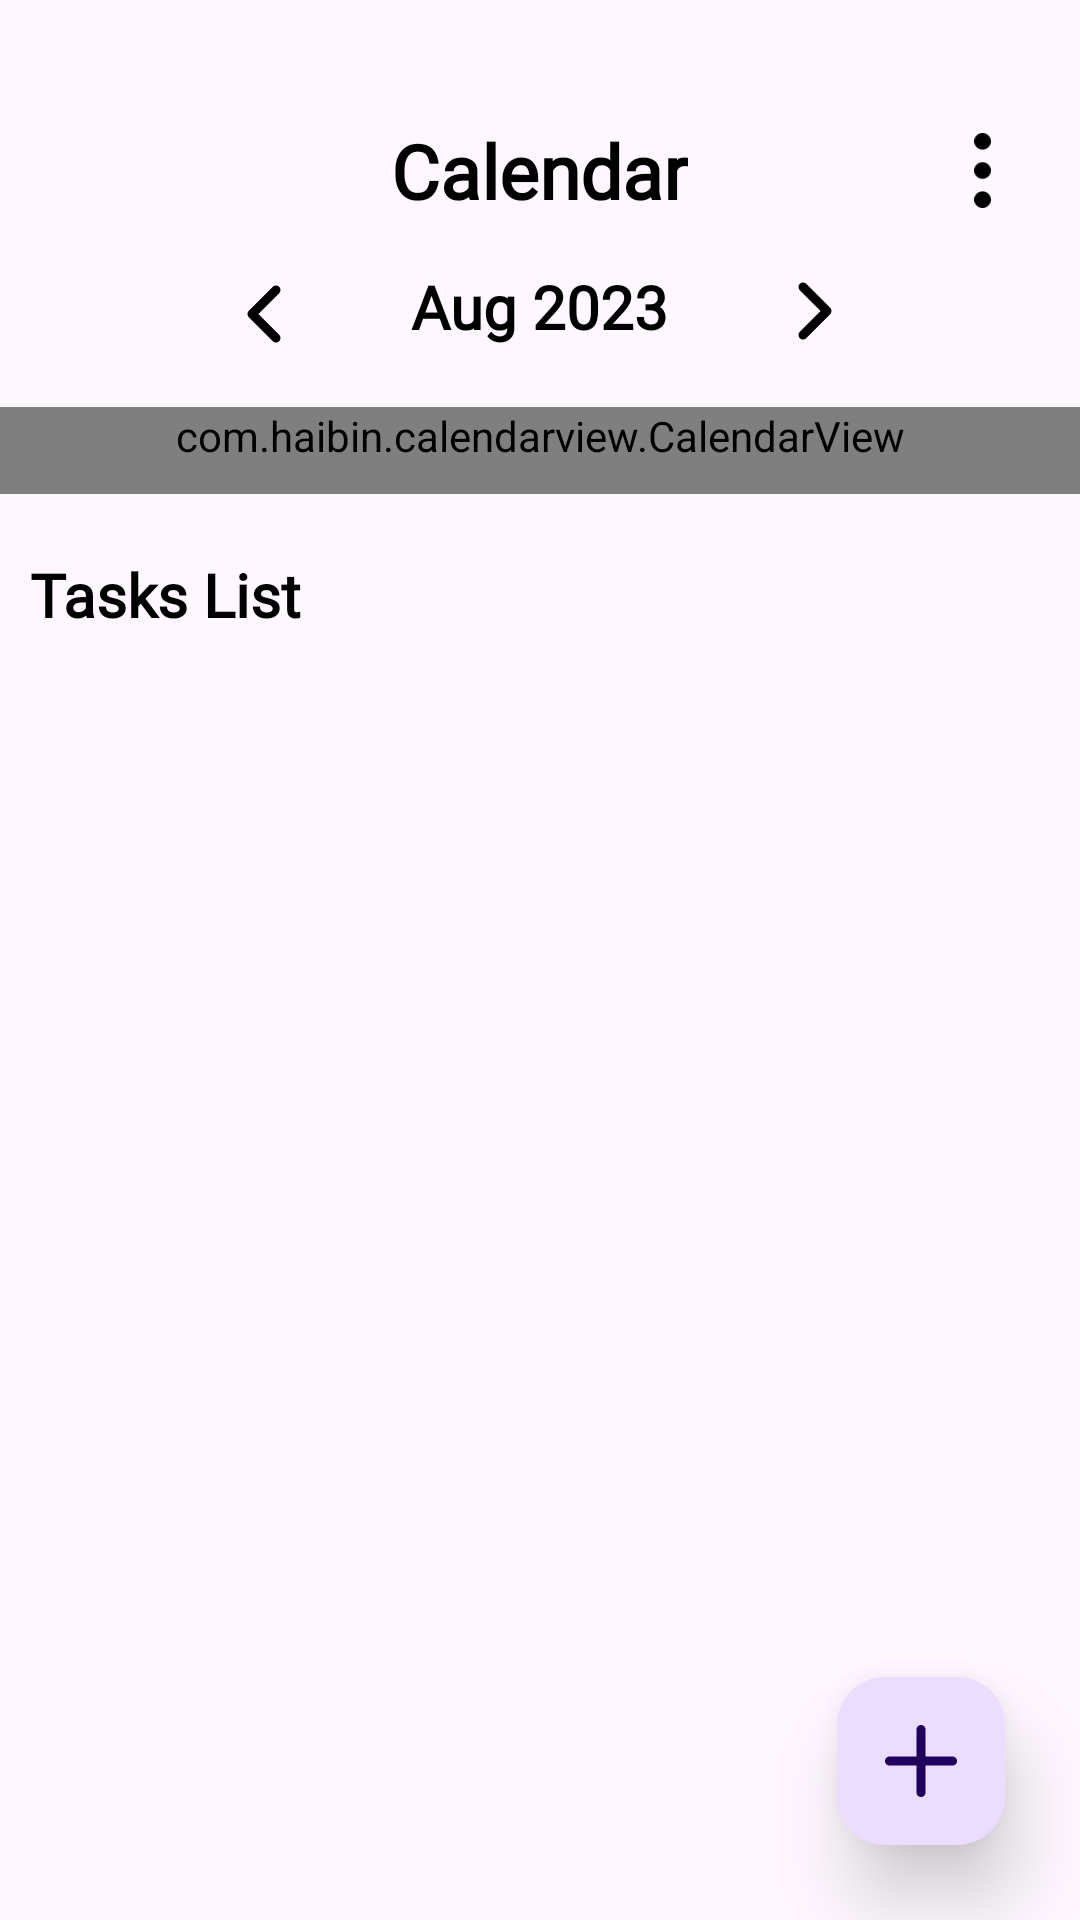

Icon click points for this 1080px x 1920px phone screenshot, format (x=x, y=y):
add: (x=921, y=1761)
left arrow cal: (x=264, y=314)
menu: (x=982, y=170)
right arrow: (x=815, y=311)
